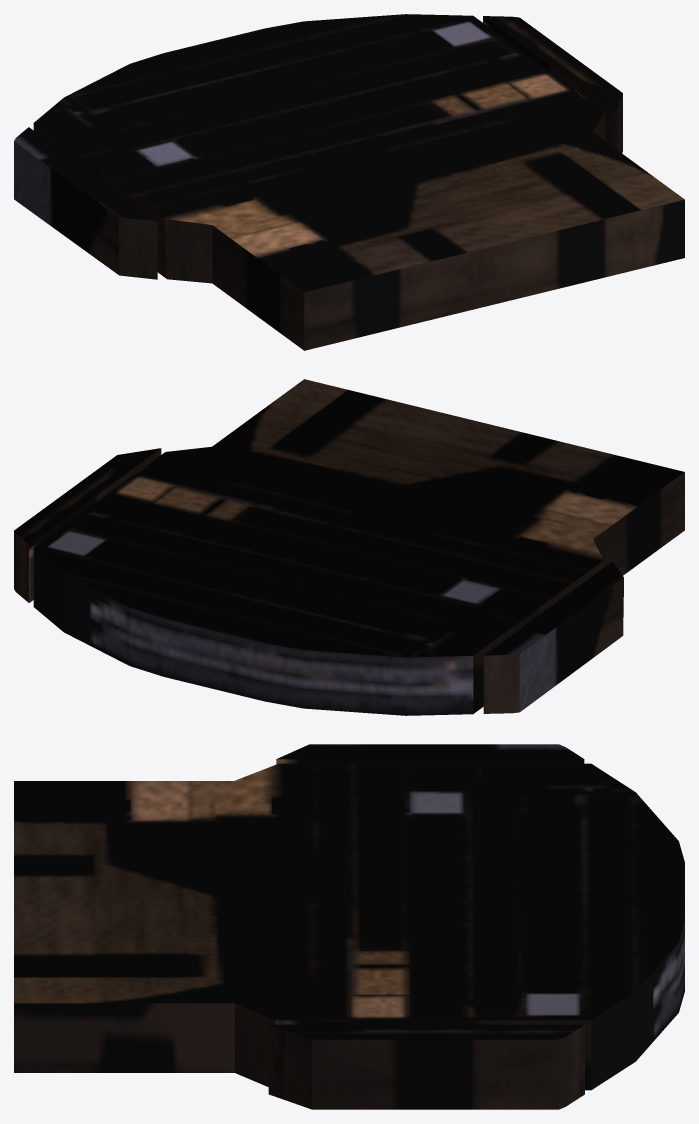
File: ex_Doorx1.obj
The picture shows the model from 3 angles, top to bottom: view 1: azimuth 30°, elevation 25°; view 2: azimuth 150°, elevation 25°; view 3: azimuth 270°, elevation 25°; orthographic projection. The views are drawn at different scales.
Visible parts, largest first — view 1: Cylinder.004_Mesh.004; view 2: Cylinder.004_Mesh.004; view 3: Cylinder.004_Mesh.004.
Boxes of the visible parts, left/top/right/bottom form: Cylinder.004_Mesh.004: left=14, top=14, right=684, bottom=350; Cylinder.004_Mesh.004: left=14, top=379, right=684, bottom=715; Cylinder.004_Mesh.004: left=14, top=744, right=684, bottom=1109.
Size of the model in its own units: 190 by 21 by 183.
Materials: 1 (1 with a texture image).
